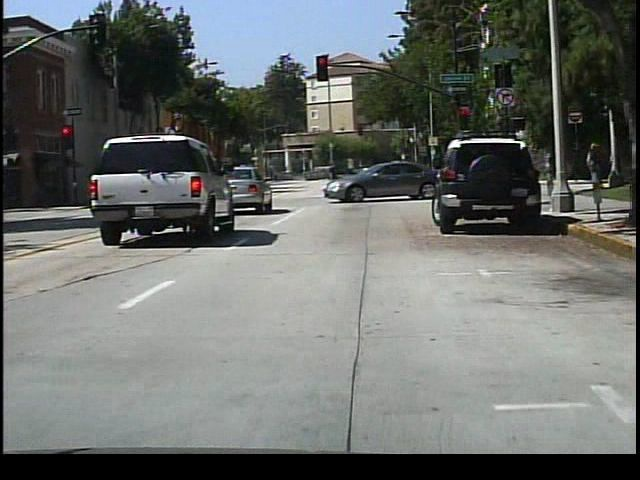person: (589, 138, 605, 193), (457, 151, 474, 187), (324, 158, 343, 179)
